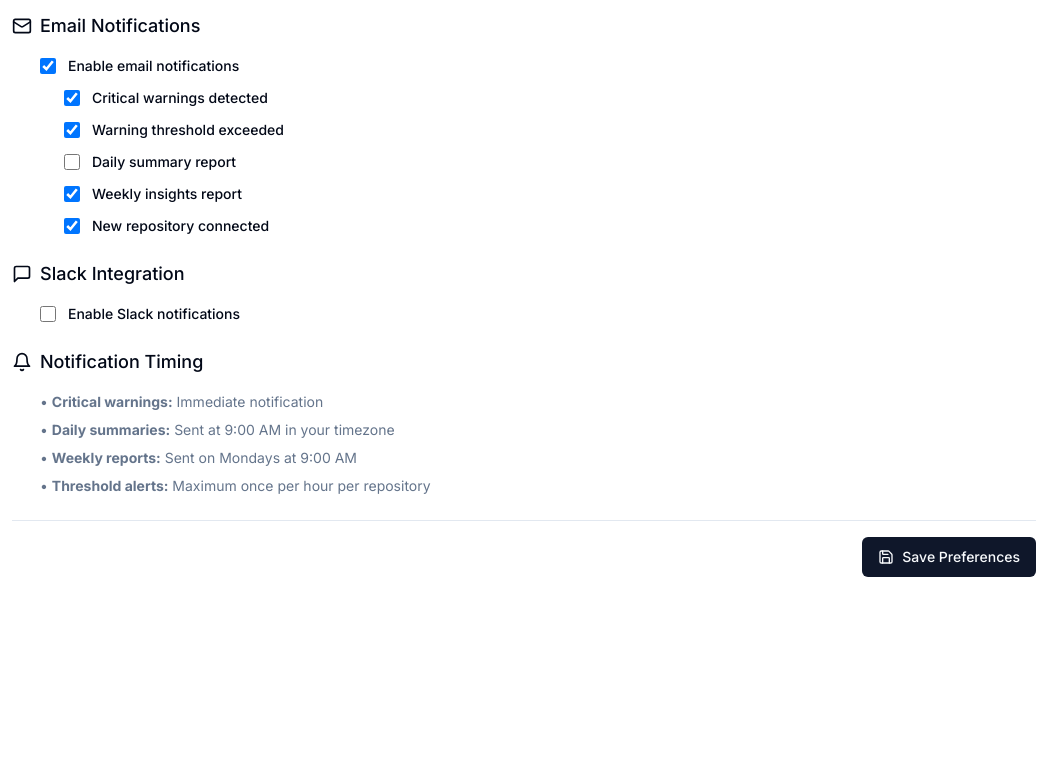
Test: NotificationSettings › shows slack webhook URL field when slack is enabled
Check: the field labelled "slack webhook url" is not shown
Note: Enable Slack notifications
Click the checkbox labelled "Enable Slack notifications". click: (48, 314)
box: [40,306,56,322]
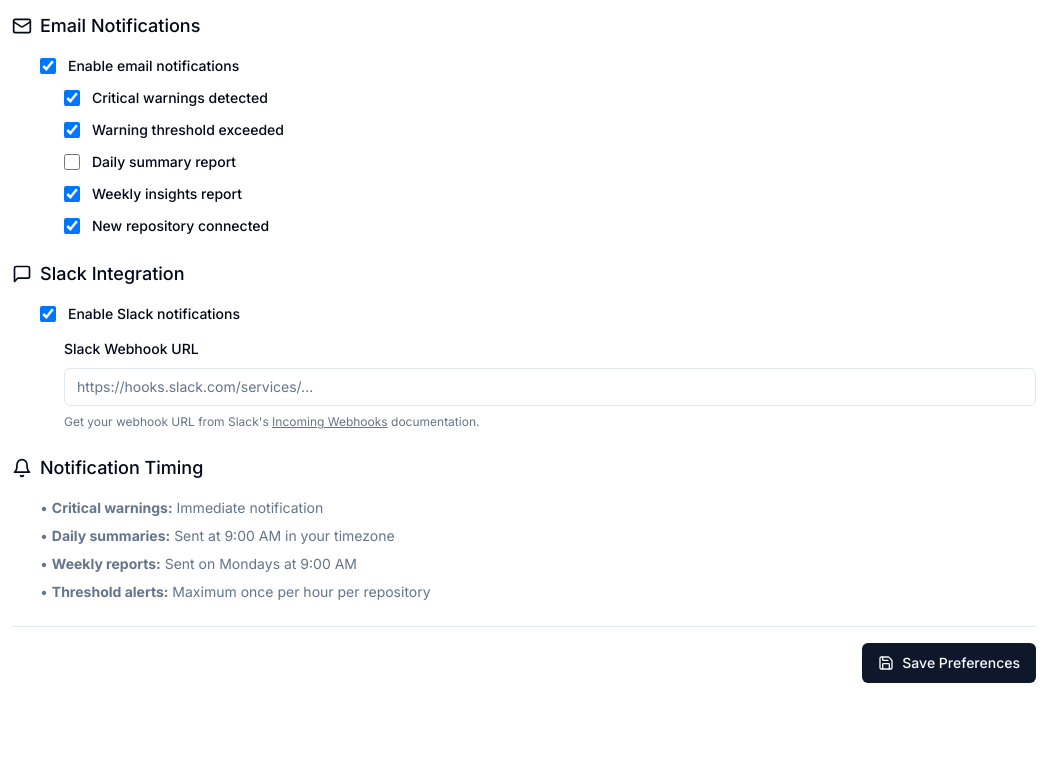
Check: the field labelled "Slack Webhook URL" is shown, box [64,368,1036,406]
